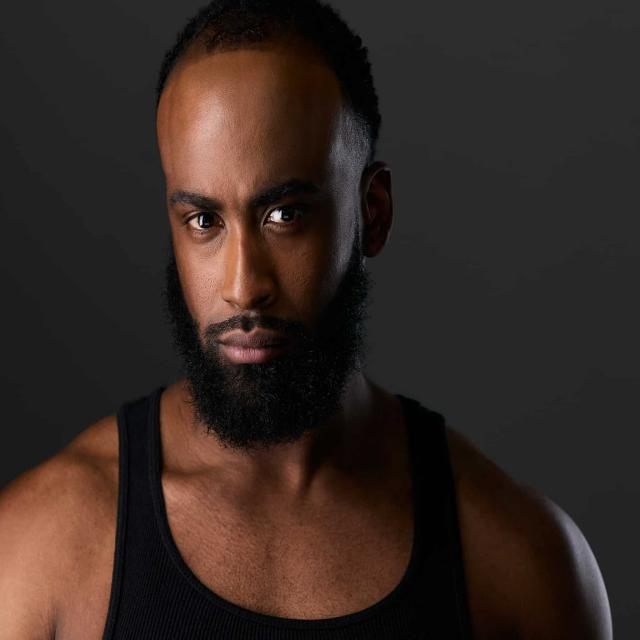nothing: (151, 0, 407, 238)
